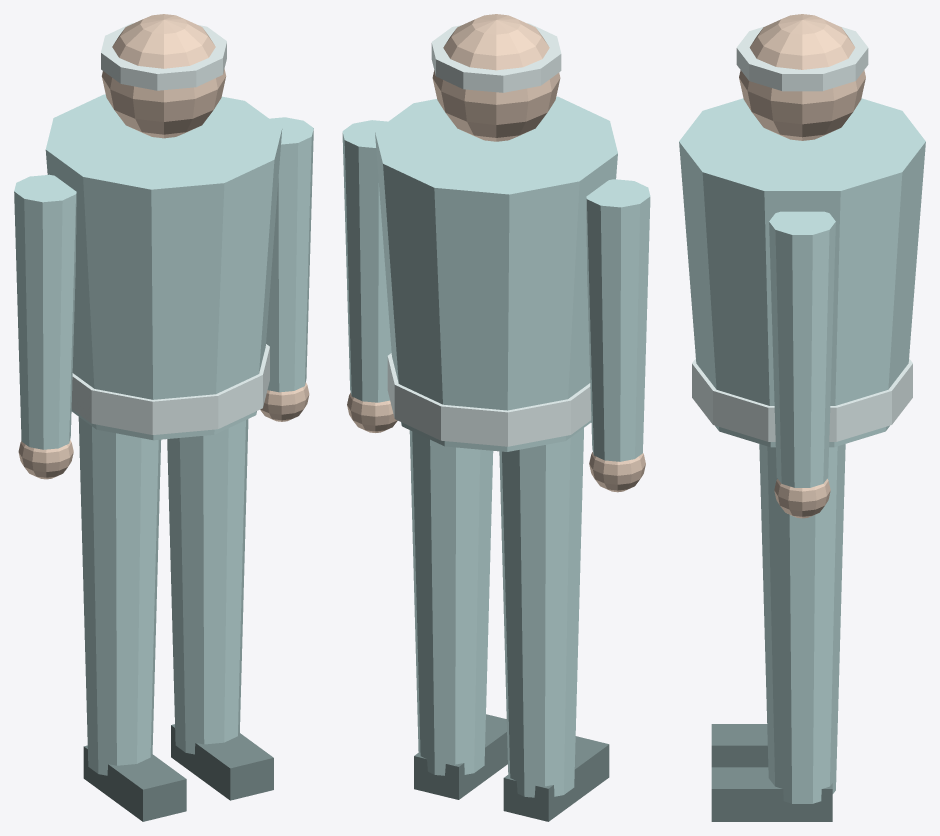
3 renders of one model, left to right at view 1: azimuth 30°, elevation 25°; view 2: azimuth 150°, elevation 25°; view 3: azimuth 270°, elevation 25°, orthographic. The views are drawn at different scales.
Parts seen in each view (by area): view 1: torso, thighR, thighL, armR, armL, head, belt, footR, footL, band, handR, handL; view 2: torso, thighR, thighL, armR, armL, head, belt, band, footR, footL, handR, handL; view 3: torso, thighL, armL, head, belt, footL, band, footR, handL.
Part boxes in pixels (x1,y1,x2,y2): torso: (45, 94, 282, 440); thighR: (78, 417, 161, 775); thighL: (167, 419, 248, 754); armR: (14, 174, 76, 449); armL: (266, 117, 313, 392); head: (101, 14, 226, 138); belt: (71, 344, 269, 434); footR: (83, 745, 186, 821); footL: (171, 724, 273, 800); band: (101, 23, 226, 90); handR: (18, 440, 73, 479); handL: (260, 382, 309, 421); torso: (375, 96, 617, 451); thighR: (499, 428, 583, 797); thighL: (409, 430, 493, 775); armR: (586, 179, 650, 461); armL: (342, 120, 391, 402); head: (432, 14, 560, 141); belt: (387, 353, 591, 446); band: (431, 23, 561, 92); footR: (503, 736, 609, 821); footL: (414, 714, 507, 799); handR: (589, 452, 645, 492); handL: (347, 392, 397, 432); torso: (679, 98, 925, 447); thighL: (759, 444, 845, 803); armL: (769, 211, 835, 487); head: (739, 14, 865, 140); belt: (692, 358, 912, 441); footL: (711, 767, 832, 821); band: (736, 26, 868, 91); footR: (711, 724, 768, 767); handL: (774, 479, 830, 518).
Size of the model in its own units: 0.5641 by 1.4 by 0.408.
